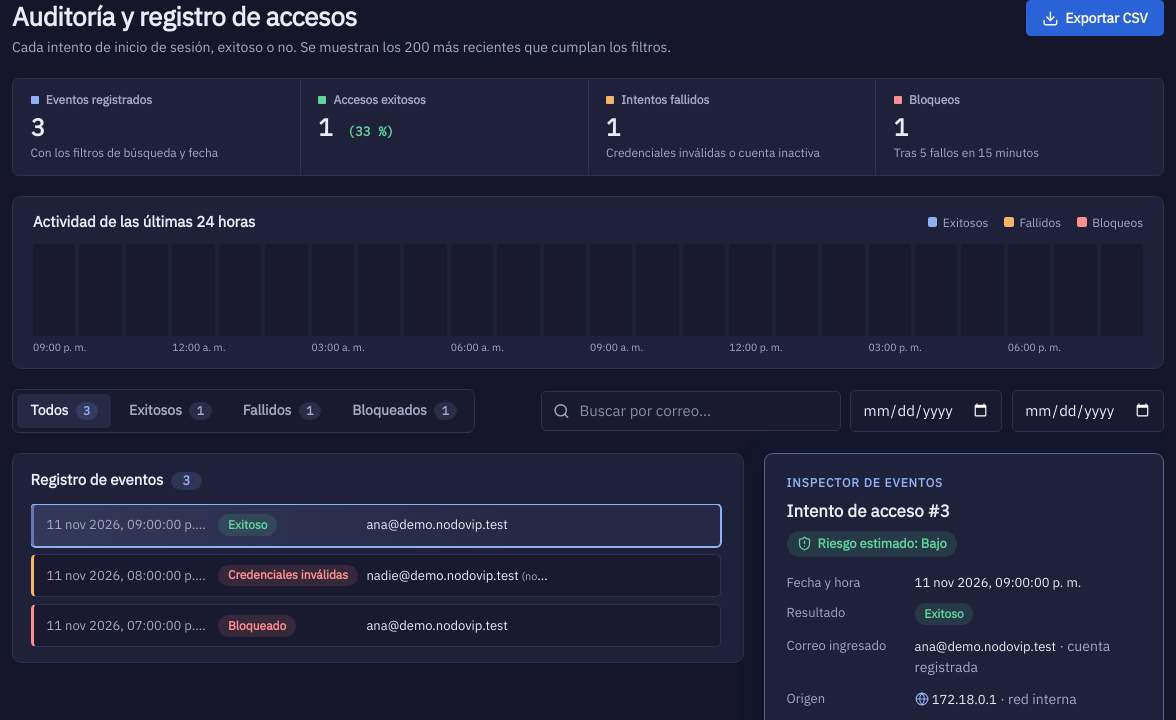
it: AccesosPage › filtra por grupo y muestra en el inspector el intento elegido
Click the button "Fallidos 1". click: (282, 411)
box: x1=229 y1=394 x2=334 y2=428
(page scrolled)
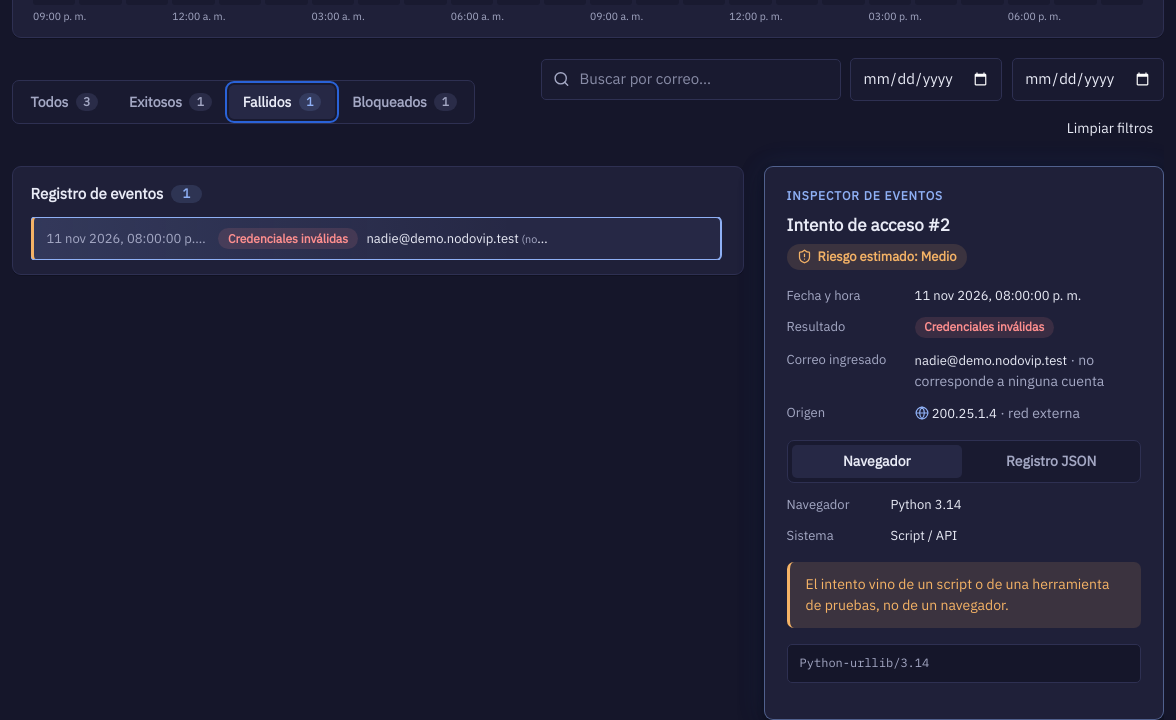
Now the heading "Intento de acceso #2" is shown, box x1=787 y1=214 x2=950 y2=236
Now the text "Riesgo estimado: Medio" is shown, box x1=787 y1=244 x2=967 y2=270
Now the text "· red externa" is shown, box x1=997 y1=404 x2=1080 y2=422
Click the tab "Registro JSON". click: (1051, 462)
box: x1=966 y1=445 x2=1136 y2=478
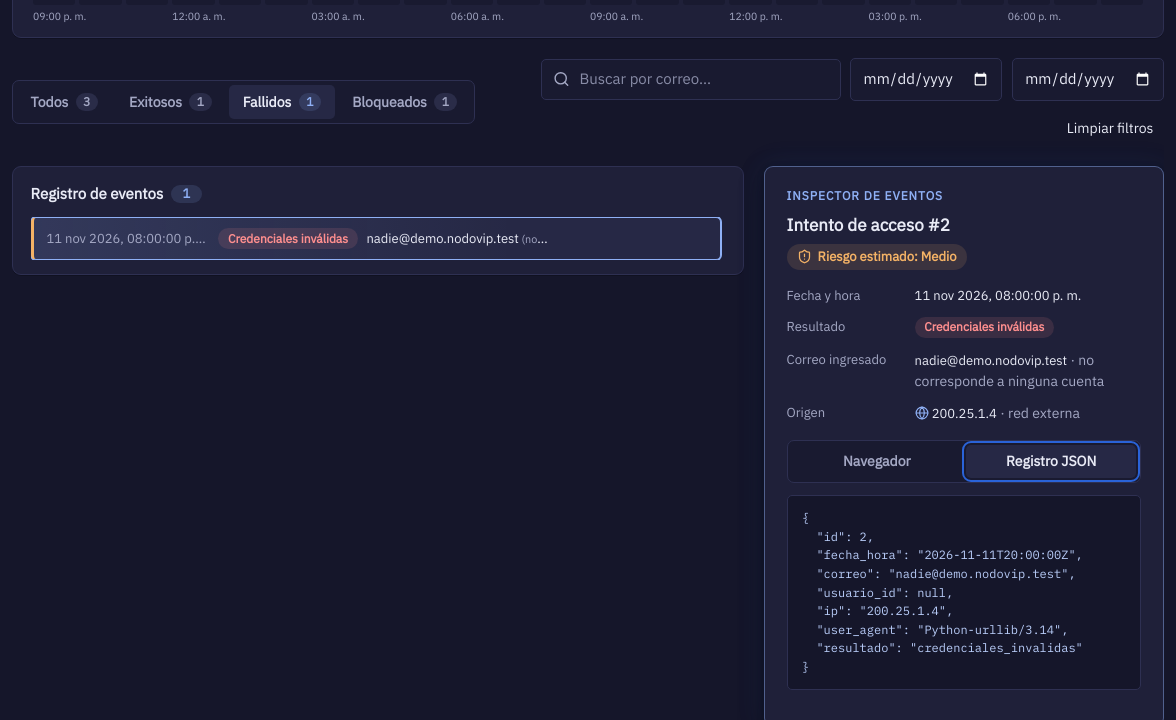
Now the panel shows "\"resultado\": \"credenciales_invalidas\"", box x1=802 y1=510 x2=1083 y2=674
